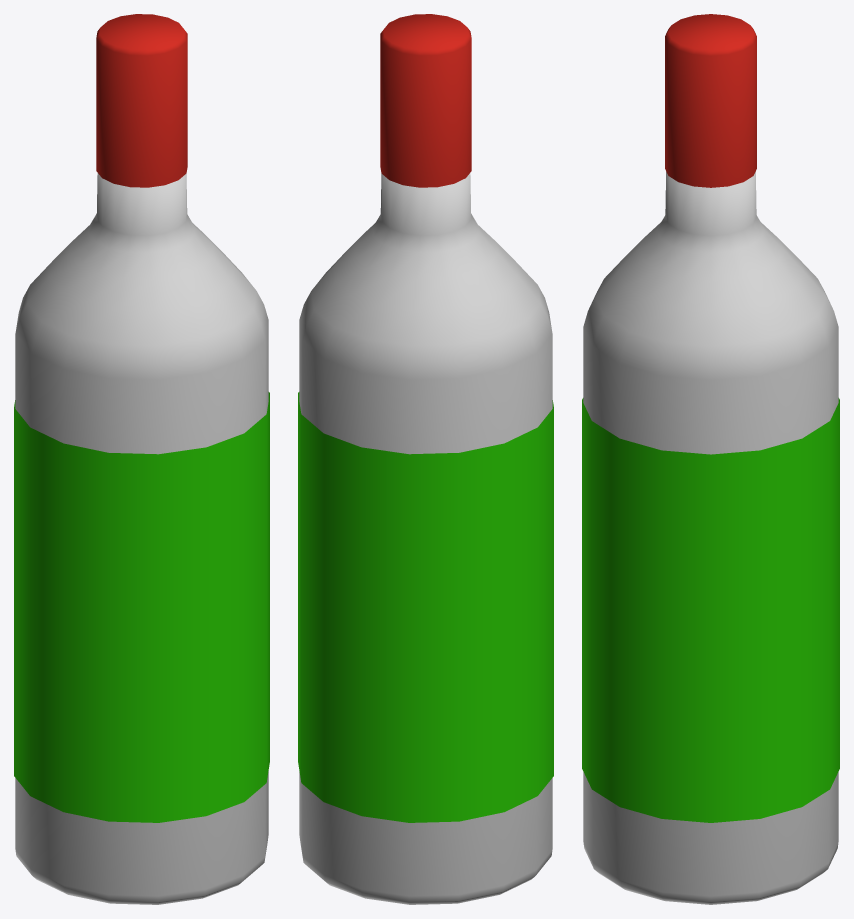
Rendered from BHP_MOD_BOT_Rum.fbx.
3 views of the same model, side by side, from view 1: azimuth 30°, elevation 25°; view 2: azimuth 150°, elevation 25°; view 3: azimuth 270°, elevation 25° (orthographic).
Parts seen in each view (by area): view 1: BHP_MOD_Bottle_Rum; view 2: BHP_MOD_Bottle_Rum; view 3: BHP_MOD_Bottle_Rum.
Boxes of the visible parts, bbox=[...] form: BHP_MOD_Bottle_Rum: bbox=[14, 14, 269, 904]; BHP_MOD_Bottle_Rum: bbox=[298, 14, 553, 904]; BHP_MOD_Bottle_Rum: bbox=[582, 14, 839, 904].
Bounding box in the file's own units: 0.096 × 0.3374 × 0.096.
